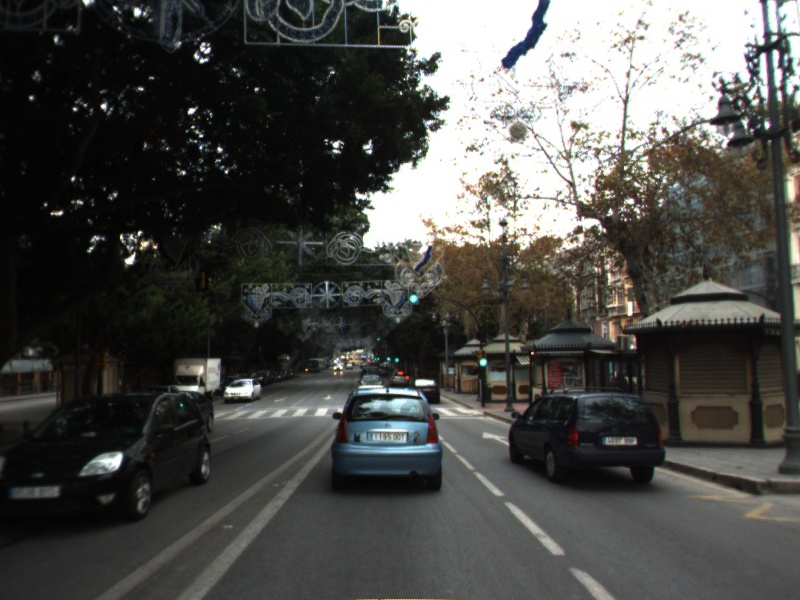STRAIGHT: (480, 429, 511, 446)
